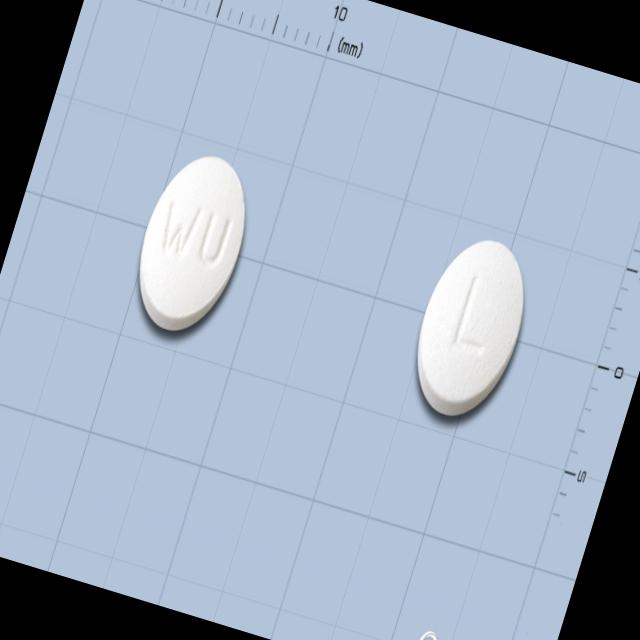Levofloxacin: (118, 142, 265, 346), (398, 227, 544, 430)
